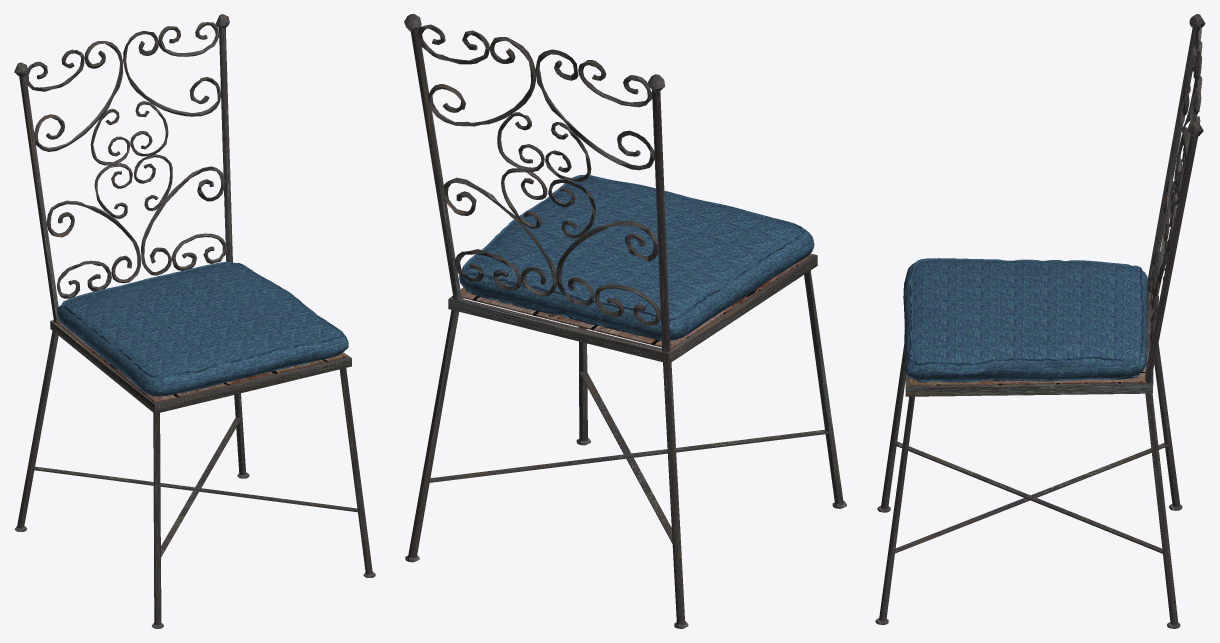
File: chair.obj
3 views of the same model, side by side, from view 1: azimuth 30°, elevation 25°; view 2: azimuth 150°, elevation 25°; view 3: azimuth 270°, elevation 25° (orthographic). The views are drawn at different scales.
Visible parts, largest first — view 1: chair; view 2: chair; view 3: chair.
Part boxes in pixels (box(x1,y1,x2,y2)): chair: box(14, 14, 375, 628); chair: box(404, 14, 846, 628); chair: box(875, 14, 1205, 628).
Bounding box in the file's own units: 0.5984 × 1.13 × 0.6738.
3 materials, 3 textured.
